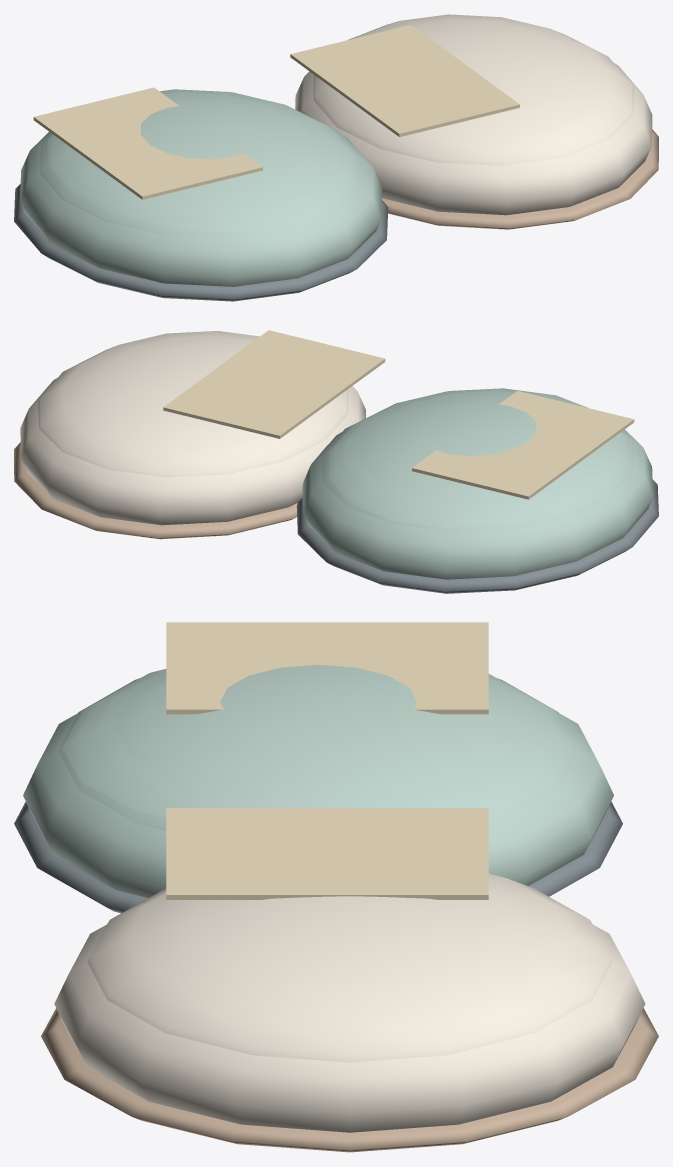
File: lounge_cushion_pair.glb
3 views of the same model, one above another, from view 1: azimuth 30°, elevation 25°; view 2: azimuth 150°, elevation 25°; view 3: azimuth 270°, elevation 25° (orthographic). The views are drawn at different scales.
Visible parts, largest first — view 1: WovenSeatLeft, SoftTopRight, WovenSeatRight, StitchBand_0.13, StitchBand_-0.36, SoftTopLeft, ContrastPipingLeft, ContrastPipingRight; view 2: WovenSeatLeft, SoftTopRight, WovenSeatRight, StitchBand_0.13, StitchBand_-0.36, SoftTopLeft, ContrastPipingLeft, ContrastPipingRight; view 3: SoftTopRight, WovenSeatLeft, WovenSeatRight, StitchBand_0.13, StitchBand_-0.36, ContrastPipingRight, SoftTopLeft, ContrastPipingLeft.
Part boxes in pixels (x1=…): WovenSeatLeft: x1=20, y1=89, x2=382, y2=286; SoftTopRight: x1=313, y1=14, x2=633, y2=165; WovenSeatRight: x1=295, y1=63, x2=652, y2=215; StitchBand_0.13: x1=290, y1=25, x2=519, y2=136; StitchBand_-0.36: x1=33, y1=87, x2=262, y2=199; SoftTopLeft: x1=40, y1=89, x2=362, y2=237; ContrastPipingLeft: x1=14, y1=184, x2=388, y2=301; ContrastPipingRight: x1=382, y1=129, x2=658, y2=229; WovenSeatLeft: x1=302, y1=388, x2=653, y2=579; SoftTopRight: x1=38, y1=331, x2=348, y2=477; WovenSeatRight: x1=20, y1=378, x2=365, y2=525; StitchBand_0.13: x1=163, y1=330, x2=385, y2=438; StitchBand_-0.36: x1=412, y1=391, x2=634, y2=499; SoftTopLeft: x1=321, y1=388, x2=633, y2=532; ContrastPipingLeft: x1=296, y1=480, x2=658, y2=593; ContrastPipingRight: x1=14, y1=442, x2=297, y2=539; SoftTopRight: x1=87, y1=874, x2=612, y2=1062; WovenSeatLeft: x1=23, y1=664, x2=613, y2=897; WovenSeatRight: x1=54, y1=924, x2=645, y2=1132; StitchBand_0.13: x1=166, y1=808, x2=488, y2=899; StitchBand_-0.36: x1=166, y1=622, x2=488, y2=714; ContrastPipingRight: x1=41, y1=1008, x2=658, y2=1152; SoftTopLeft: x1=58, y1=669, x2=578, y2=830; ContrastPipingLeft: x1=14, y1=801, x2=622, y2=913.
Bounding box in the file's own units: 1.14 × 0.2475 × 0.72.
